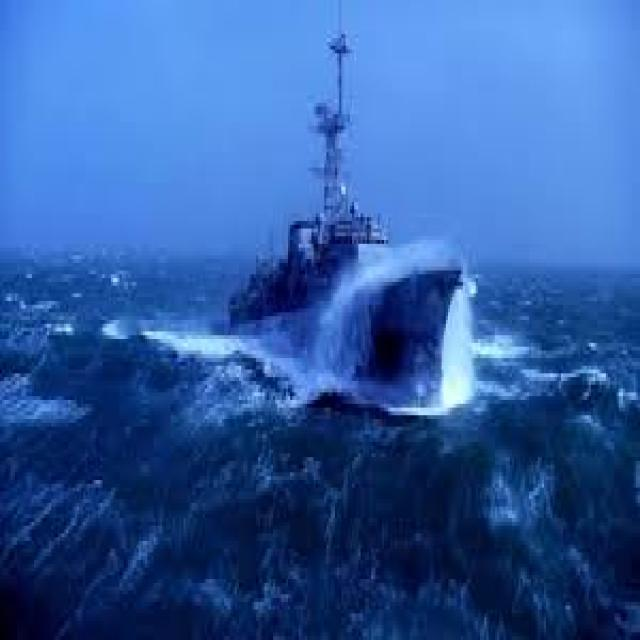navalvessels: (222, 36, 465, 389)
